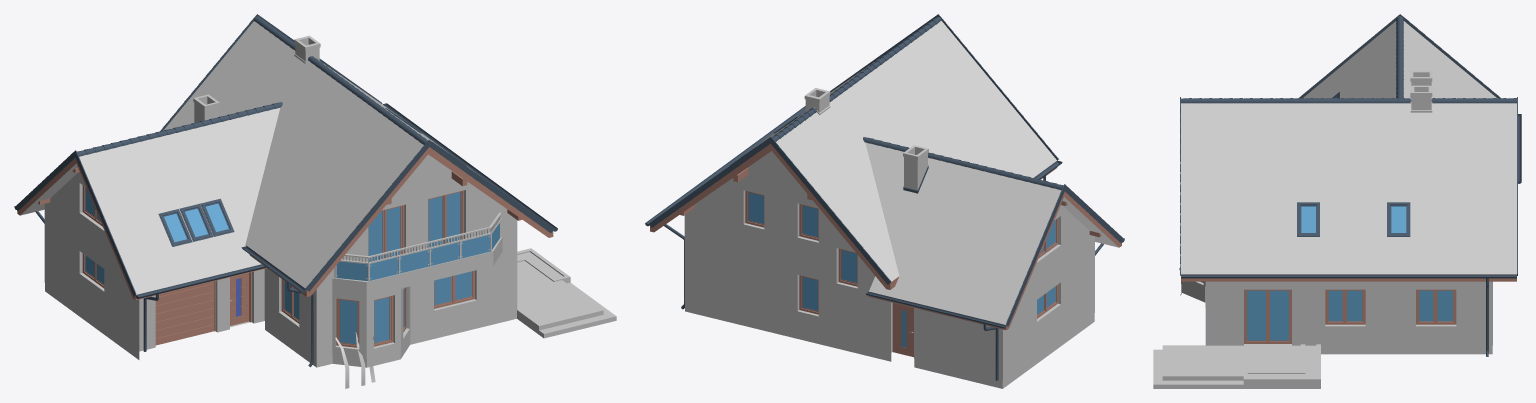
The model's file is house1.dae.
The picture shows the model from 3 angles, left to right: view 1: azimuth 30°, elevation 25°; view 2: azimuth 150°, elevation 25°; view 3: azimuth 270°, elevation 25°; orthographic projection. The views are drawn at different scales.
Parts seen in each view (by area): view 1: roof, wall_exterior, roof_001, window_011, terrace, barrels_001, cover_sides_001, door_garage, balcony, cover_roof_001, gutter_001, window_roof (+3 smaller); view 2: wall_exterior, roof, roof_001, window_011, cover_sides_001, cover_roof_001, gutter_001, chimney_002, door_wing_013; view 3: roof, wall_exterior, roof_001, window_011, terrace, cover_roof_001, gutter_001, flower_pot, window_roof, cover_sides_001, chimney_002.
Boxes of the visible parts, box(x1,y1,x2,y2) form: roof: box(163, 21, 553, 296); wall_exterior: box(44, 154, 517, 367); roof_001: box(17, 108, 280, 300); window_011: box(79, 185, 476, 350); terrace: box(517, 261, 616, 338); barrels_001: box(334, 212, 502, 281); cover_sides_001: box(15, 14, 553, 296); door_garage: box(155, 281, 215, 345); balcony: box(332, 236, 502, 296); cover_roof_001: box(77, 16, 427, 156); gutter_001: box(14, 103, 557, 367); window_roof: box(158, 108, 465, 246); wall_exterior: box(684, 151, 1094, 388); roof: box(650, 20, 1057, 289); roof_001: box(865, 142, 1121, 330); window_011: box(743, 191, 1060, 322); cover_sides_001: box(649, 14, 1123, 326); cover_roof_001: box(772, 17, 1063, 190); gutter_001: box(645, 106, 1124, 380); chimney_002: box(804, 88, 928, 193); door_wing_013: box(893, 303, 913, 357); roof: box(1181, 103, 1516, 281); wall_exterior: box(1181, 281, 1492, 354); roof_001: box(1303, 21, 1497, 98); window_011: box(1193, 281, 1456, 343); terrace: box(1153, 344, 1300, 388); cover_roof_001: box(1181, 16, 1516, 103); gutter_001: box(1181, 114, 1521, 356); flower_pot: box(1243, 344, 1320, 388); window_roof: box(1297, 92, 1410, 236); cover_sides_001: box(1180, 14, 1517, 275); chimney_002: box(1410, 71, 1432, 112).
Bounding box in the file's own units: 17.54 × 13.74 × 9.57.
